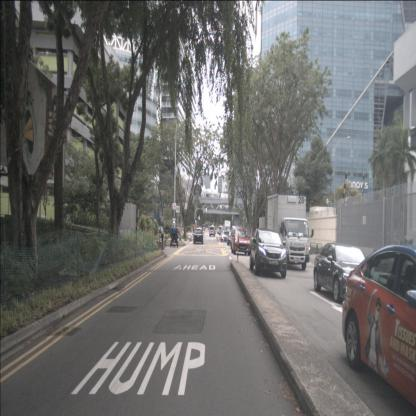human-pedestrian-adult: (160, 223, 166, 251)
vehicle-car: (342, 244, 415, 409), (313, 242, 374, 304), (250, 228, 287, 277), (230, 228, 250, 256), (227, 230, 237, 246), (194, 228, 204, 244), (220, 230, 230, 243), (218, 226, 226, 235), (209, 226, 215, 237), (216, 228, 220, 235), (202, 223, 206, 230)
vehicle-motorcycle: (170, 227, 178, 248)
vehicle-truck: (267, 193, 310, 270), (224, 220, 231, 236)
